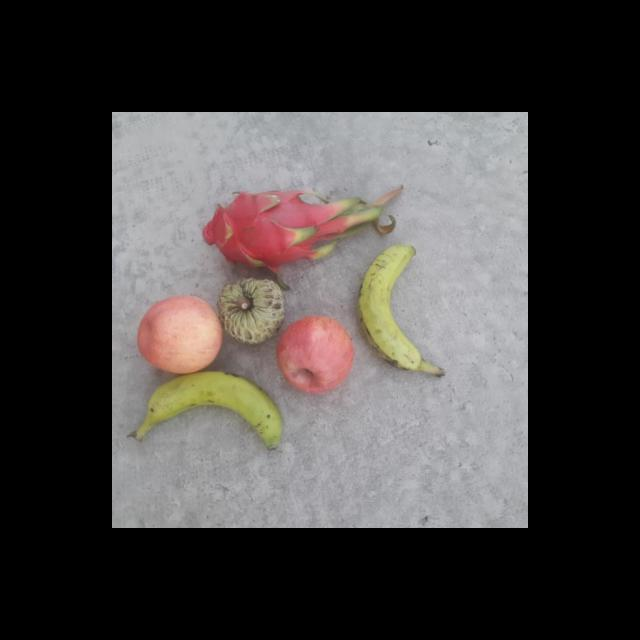Sakya fruit: (214, 275, 289, 344)
apple: (135, 293, 222, 375), (276, 316, 352, 396)
banana: (138, 370, 284, 453), (354, 242, 424, 376)
pitaya: (196, 188, 328, 268)
